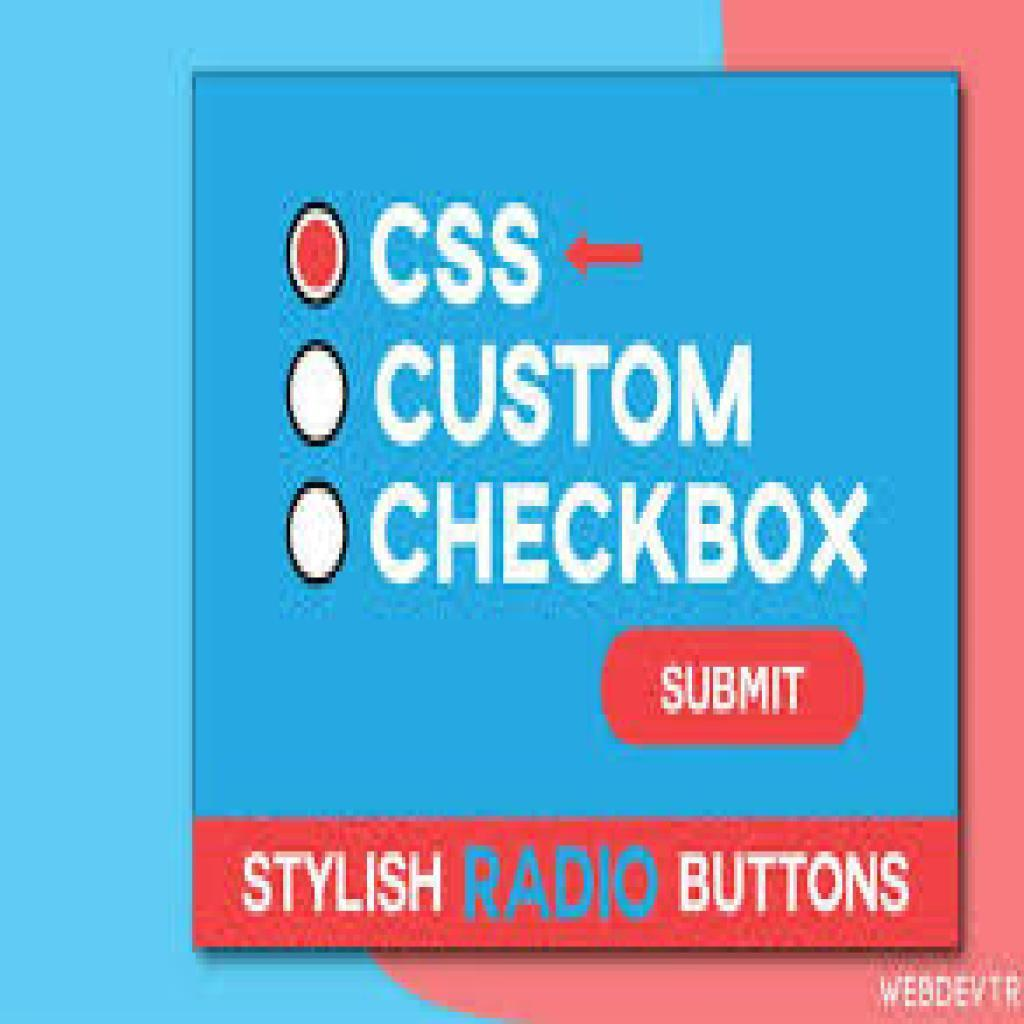button: (602, 628, 865, 752)
radio: (284, 330, 358, 452), (282, 474, 353, 593), (281, 200, 351, 311)
